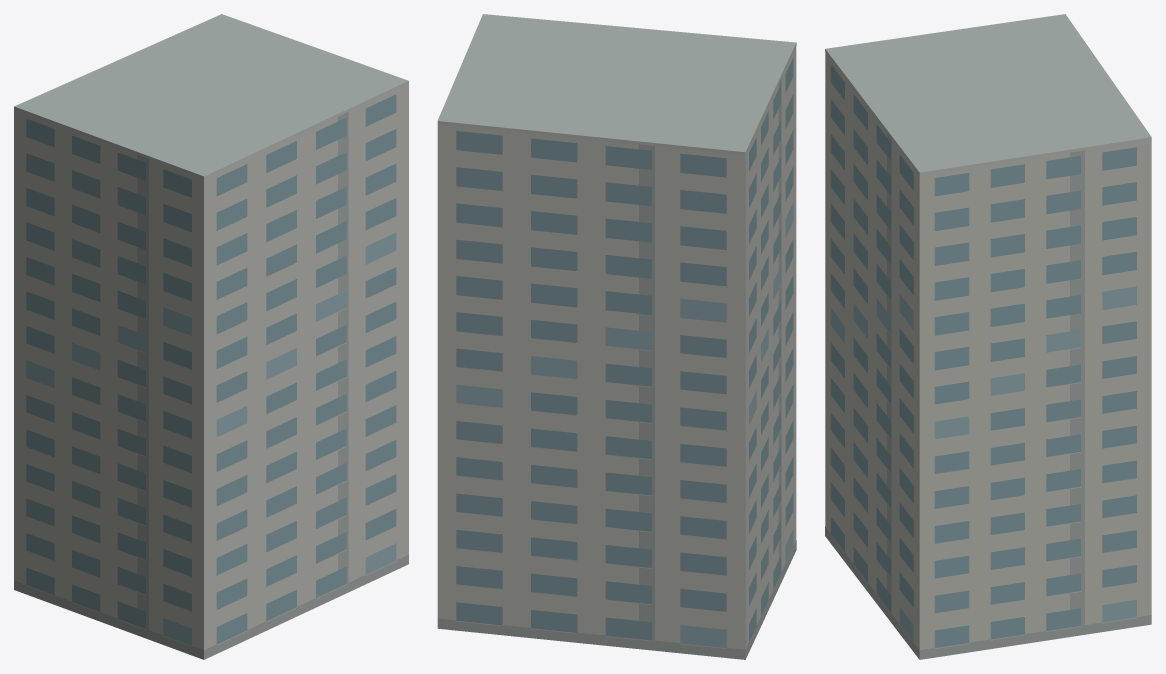
Rendered from residential-9b6419db-8a91-4301-8890-8a08378ca391.glb.
3 views of the same model, side by side, from view 1: azimuth 30°, elevation 25°; view 2: azimuth 150°, elevation 25°; view 3: azimuth 270°, elevation 25° (orthographic). The views are drawn at different scales.
Parts seen in each view (by area): view 1: residential-9b6419db-8a91-4301-8890-8a08378ca391.tmp; view 2: residential-9b6419db-8a91-4301-8890-8a08378ca391.tmp; view 3: residential-9b6419db-8a91-4301-8890-8a08378ca391.tmp.
Part boxes in pixels (x1,y1,x2,y2): residential-9b6419db-8a91-4301-8890-8a08378ca391.tmp: [14, 14, 408, 659]; residential-9b6419db-8a91-4301-8890-8a08378ca391.tmp: [437, 14, 796, 659]; residential-9b6419db-8a91-4301-8890-8a08378ca391.tmp: [825, 14, 1151, 659].
Bounding box in the file's own units: 28.62 × 41 × 24.91.
